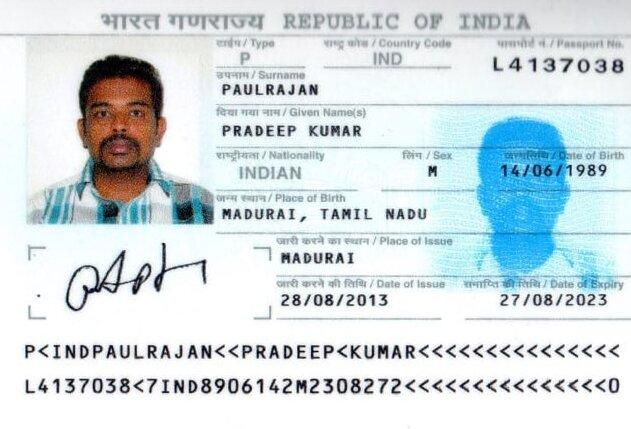DOB: (479, 156, 621, 184)
Surname: (218, 76, 328, 107)
country_code: (357, 46, 416, 76)
date_of_expiry: (474, 287, 616, 321)
date_of_issue: (261, 289, 401, 327)
details: (0, 341, 621, 429)
name: (216, 115, 386, 146)
nationality: (222, 154, 328, 183)
passport_no: (478, 44, 631, 80)
photo: (26, 41, 207, 225)
place_of_birth: (218, 198, 439, 229)
place_of_issue: (266, 246, 402, 274)
sex: (397, 161, 459, 186)
sign: (39, 242, 231, 312)
type: (219, 44, 273, 69)
